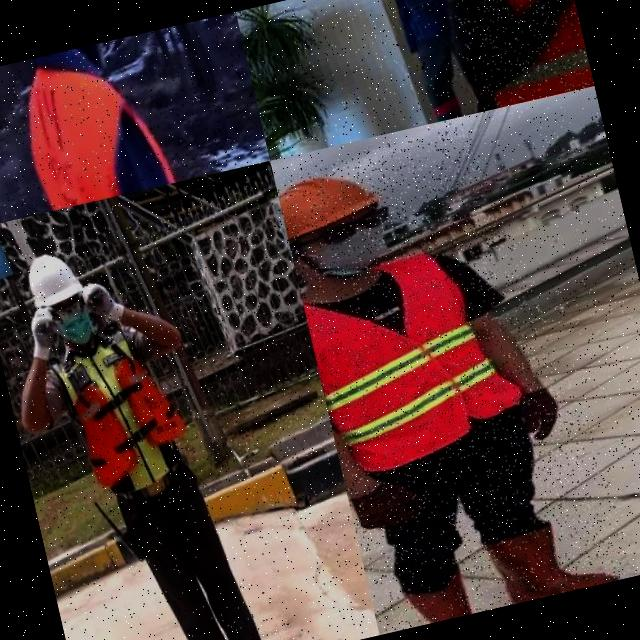boots: (482, 498, 622, 607), (398, 552, 510, 628)
helmet: (273, 152, 388, 250), (10, 237, 93, 326)
vest: (297, 233, 536, 487), (0, 27, 197, 215), (36, 306, 212, 516), (425, 0, 594, 116)
